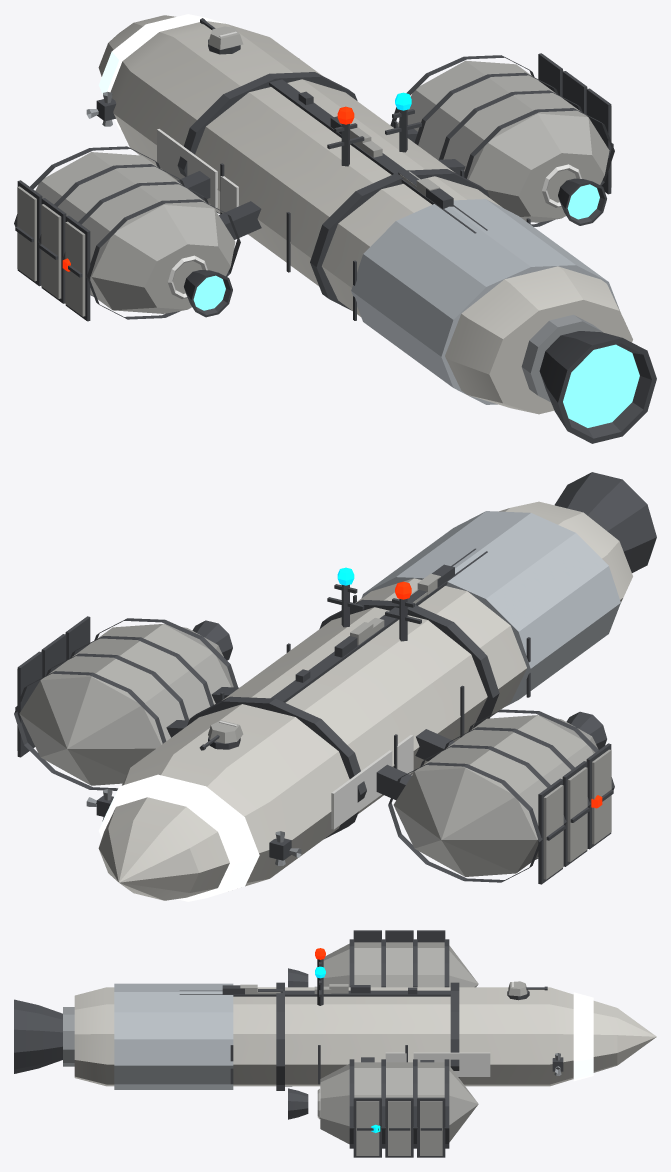
The model's file is mule.glb.
3 renders of one model, top to bottom at view 1: azimuth 30°, elevation 25°; view 2: azimuth 150°, elevation 25°; view 3: azimuth 270°, elevation 25°, orthographic. The views are drawn at different scales.
Visible parts, largest first — view 1: Hull, Turret_3; view 2: Hull, Turret_3; view 3: Hull, Turret_3.
Part boxes in pixels (left/top/right/bottom): Hull: left=14, top=14, right=656, bottom=443; Turret_3: left=200, top=18, right=243, bottom=54; Hull: left=14, top=472, right=656, bottom=901; Turret_3: left=199, top=720, right=243, bottom=750; Hull: left=14, top=930, right=656, bottom=1157; Turret_3: left=507, top=981, right=547, bottom=1000.
Size of the model in its own units: 1.27 by 0.439 by 2.
